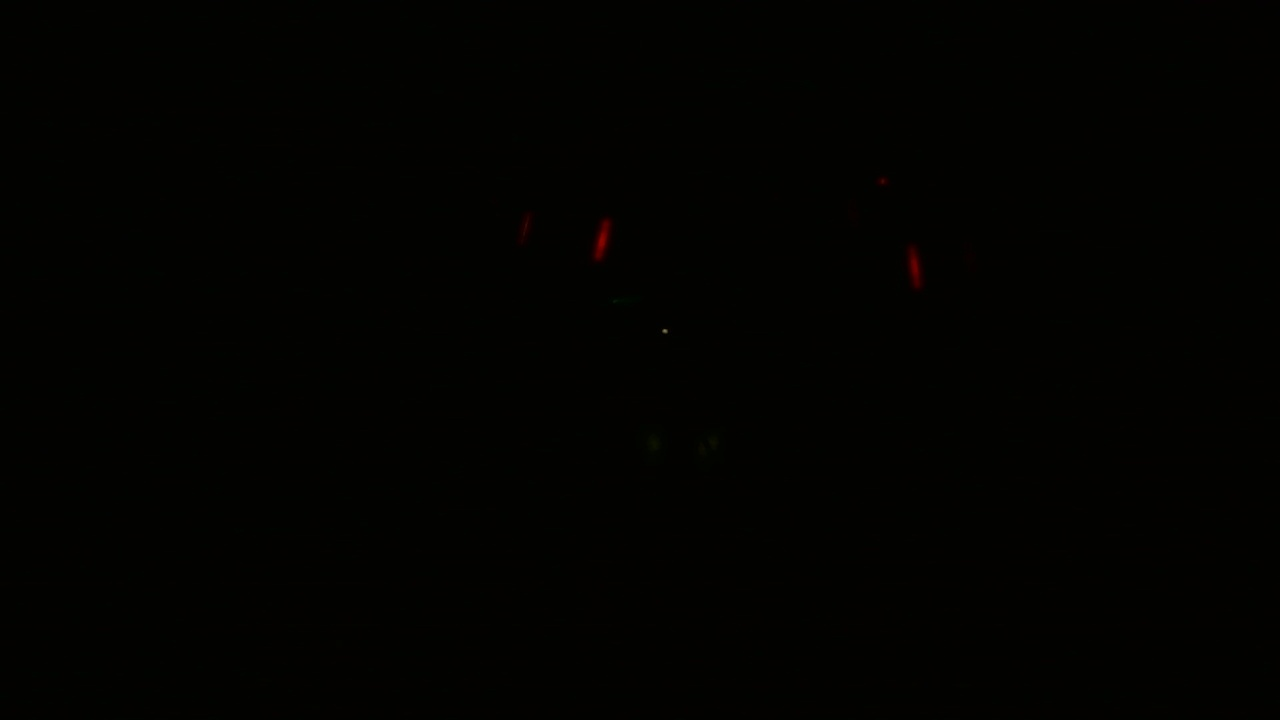pair1: (517, 215, 613, 266)
